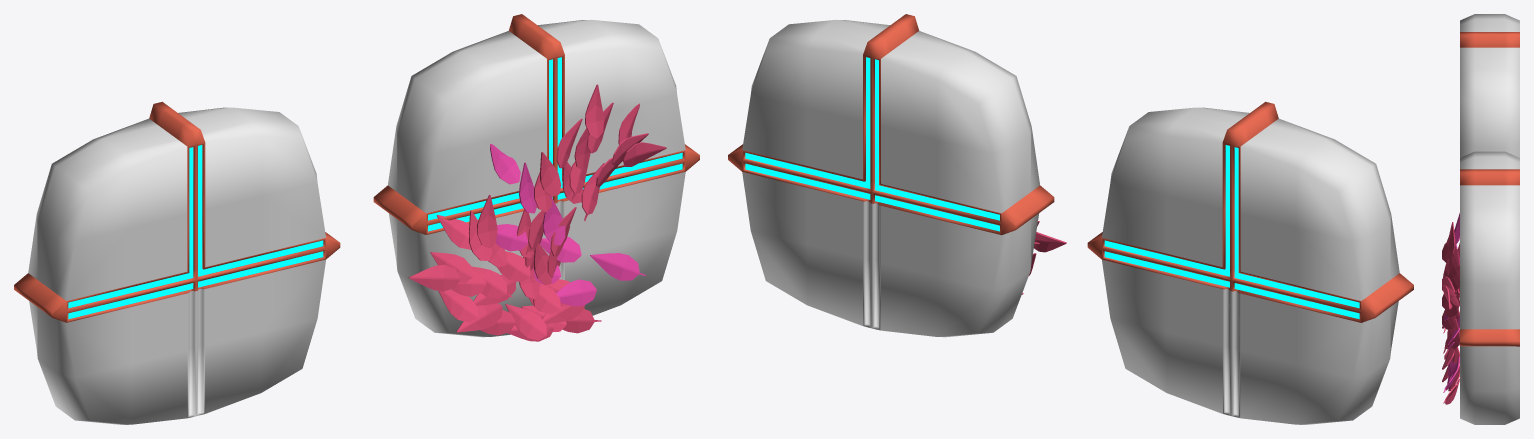
The model's file is ObjParaRotarConexionDCables.fbx.
The picture shows the model from 3 angles, left to right: view 1: azimuth 30°, elevation 25°; view 2: azimuth 150°, elevation 25°; view 3: azimuth 270°, elevation 25°; orthographic projection. The views are drawn at different scales.
Visible parts, largest first — view 1: ObjParaRotarConexionDCables.L1.001, ObjParaRotarConexionDCables.Origen.001, ObjParaRotarConexionDCables.Origen.004, ObjParaRotarConexionDCables.Origen, ObjParaRotarConexionDCables.L1.002, ObjParaRotarConexionDCables.Origen.002, ObjParaRotarConexionDCables.Origen.005, ObjParaRotarConexionDCables.L1, ObjParaRotarConexionDCables.Origen.003; view 2: ObjParaRotarConexionDCables.L1.001, ObjParaRotarConexionDCables.Origen.001, ObjParaRotarConexionDCables.L1.002, ObjParaRotarConexionDCables.Origen.002, ObjParaRotarConexionDCables.L1, ObjParaRotarConexionDCables.Origen.003; view 3: ObjParaRotarConexionDCables.Origen.001, ObjParaRotarConexionDCables.L1.001, ObjParaRotarConexionDCables.Origen.002, ObjParaRotarConexionDCables.Origen, ObjParaRotarConexionDCables.L1.002, ObjParaRotarConexionDCables.Origen.004, ObjParaRotarConexionDCables.Origen.005.
Part boxes in pixels (<box>): ObjParaRotarConexionDCables.L1.001: <box>28,107,325,424</box>; ObjParaRotarConexionDCables.Origen.001: <box>388,19,685,337</box>; ObjParaRotarConexionDCables.Origen.004: <box>408,195,601,341</box>; ObjParaRotarConexionDCables.Origen: <box>517,84,666,306</box>; ObjParaRotarConexionDCables.L1.002: <box>14,101,340,322</box>; ObjParaRotarConexionDCables.Origen.002: <box>373,14,699,234</box>; ObjParaRotarConexionDCables.Origen.005: <box>490,144,645,306</box>; ObjParaRotarConexionDCables.L1: <box>68,145,323,319</box>; ObjParaRotarConexionDCables.Origen.003: <box>428,57,682,231</box>; ObjParaRotarConexionDCables.L1.001: <box>1102,107,1399,424</box>; ObjParaRotarConexionDCables.Origen.001: <box>742,19,1039,337</box>; ObjParaRotarConexionDCables.L1.002: <box>1087,101,1413,322</box>; ObjParaRotarConexionDCables.Origen.002: <box>728,14,1054,235</box>; ObjParaRotarConexionDCables.L1: <box>1104,145,1359,319</box>; ObjParaRotarConexionDCables.Origen.003: <box>745,57,999,231</box>; ObjParaRotarConexionDCables.Origen.001: <box>1460,151,1519,424</box>; ObjParaRotarConexionDCables.L1.001: <box>1460,14,1519,157</box>; ObjParaRotarConexionDCables.Origen.002: <box>1460,169,1519,346</box>; ObjParaRotarConexionDCables.Origen: <box>1442,222,1459,353</box>; ObjParaRotarConexionDCables.L1.002: <box>1460,32,1519,47</box>; ObjParaRotarConexionDCables.Origen.004: <box>1442,243,1459,404</box>; ObjParaRotarConexionDCables.Origen.005: <box>1443,213,1459,392</box>.
Bounding box in the file's own units: 182 × 77.62 × 24.22.
